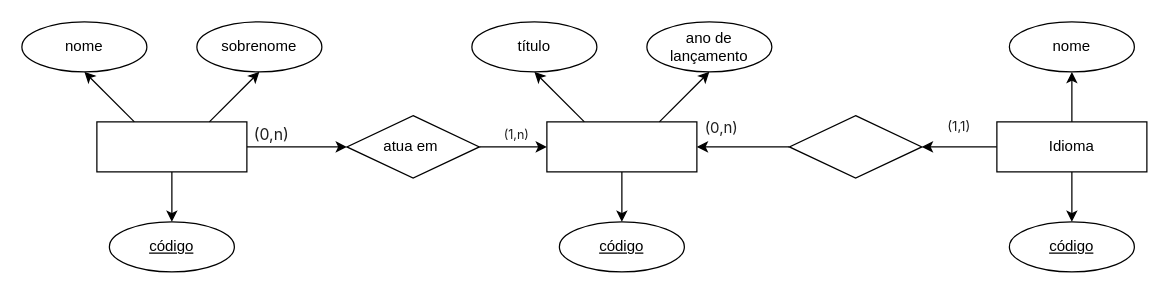
Image size: 1169x294. Some labels were removed from this diagram. Each missing label, with the centre of its shape:
"Ator" goes at (171,146).
"falado em" goes at (855,146).
"Filme" goes at (621,146).
